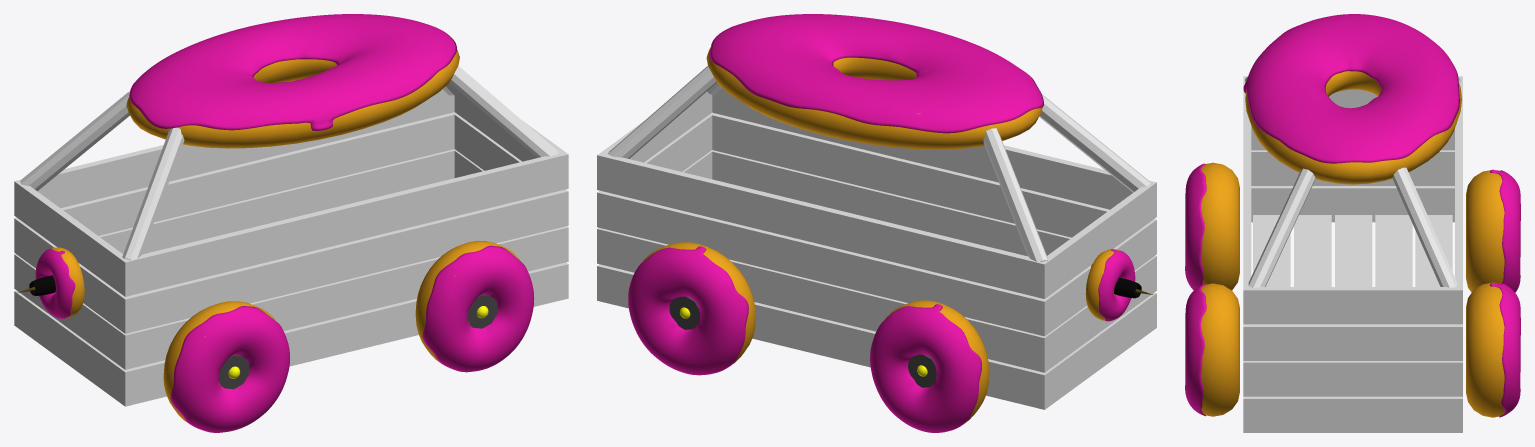
The model's file is DonutCar.fbx.
3 views of the same model, side by side, from view 1: azimuth 30°, elevation 25°; view 2: azimuth 150°, elevation 25°; view 3: azimuth 270°, elevation 25° (orthographic). The views are drawn at different scales.
Parts seen in each view (by area): view 1: Sphere, icing.001, icing; view 2: Sphere, icing.002, icing.003; view 3: Sphere, icing.002, icing, icing.001, icing.003.
Part boxes in pixels (x1,y1,x2,y2): Sphere: (14,14,568,406); icing.001: (163,301,289,432); icing: (415,240,534,372); Sphere: (597,14,1156,409); icing.002: (628,242,755,375); icing.003: (870,300,989,432); Sphere: (1243,14,1462,432); icing.002: (1466,282,1520,417); icing: (1185,283,1239,416); icing.001: (1185,162,1239,290); icing.003: (1466,169,1520,292).
Bounding box in the file's own units: 2.1 × 1.16 × 1.24.
